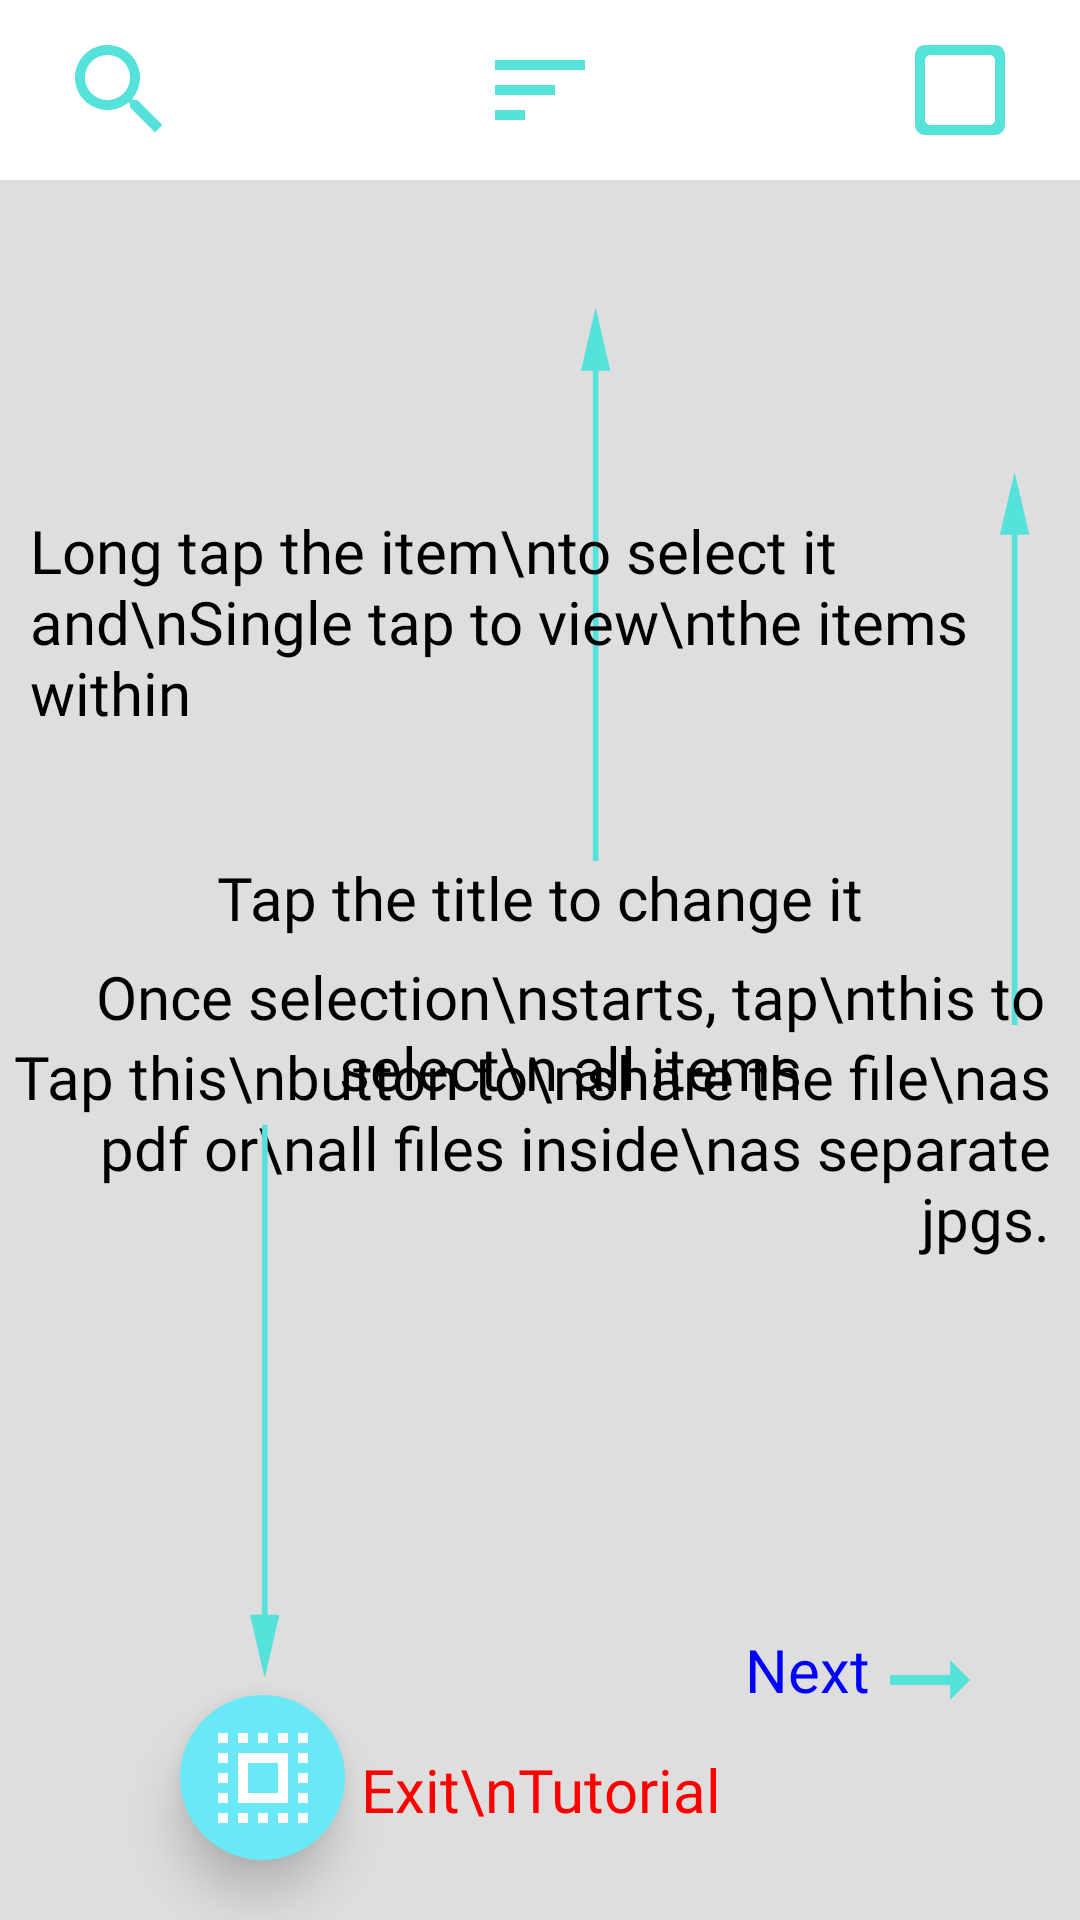

Locate icon controls on the screen. Image size 1080x1920, boxes as (x1, y1, x2, y2).
arrow right: (890, 1660, 970, 1700)
check box blank: (915, 45, 1005, 135)
search: (75, 45, 162, 132)
